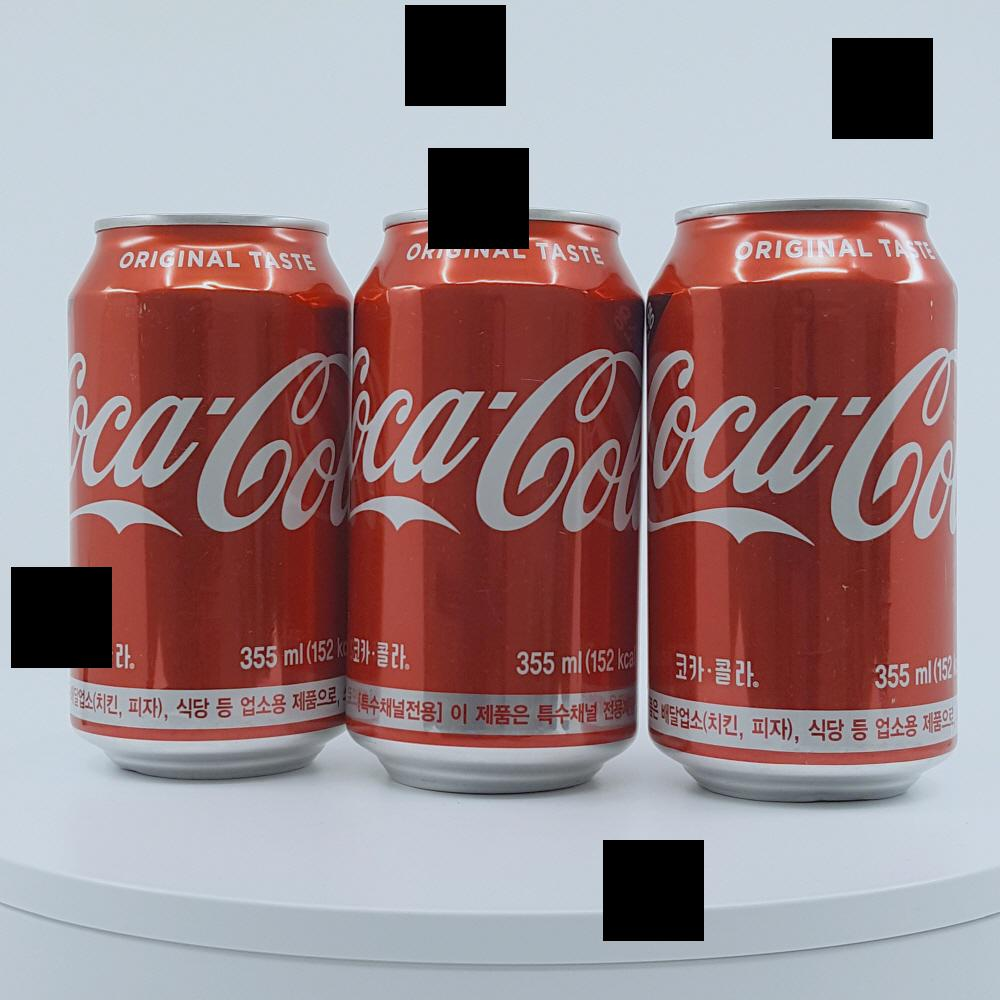cocacola: (643, 168, 978, 827), (346, 173, 641, 799), (51, 203, 329, 792)
